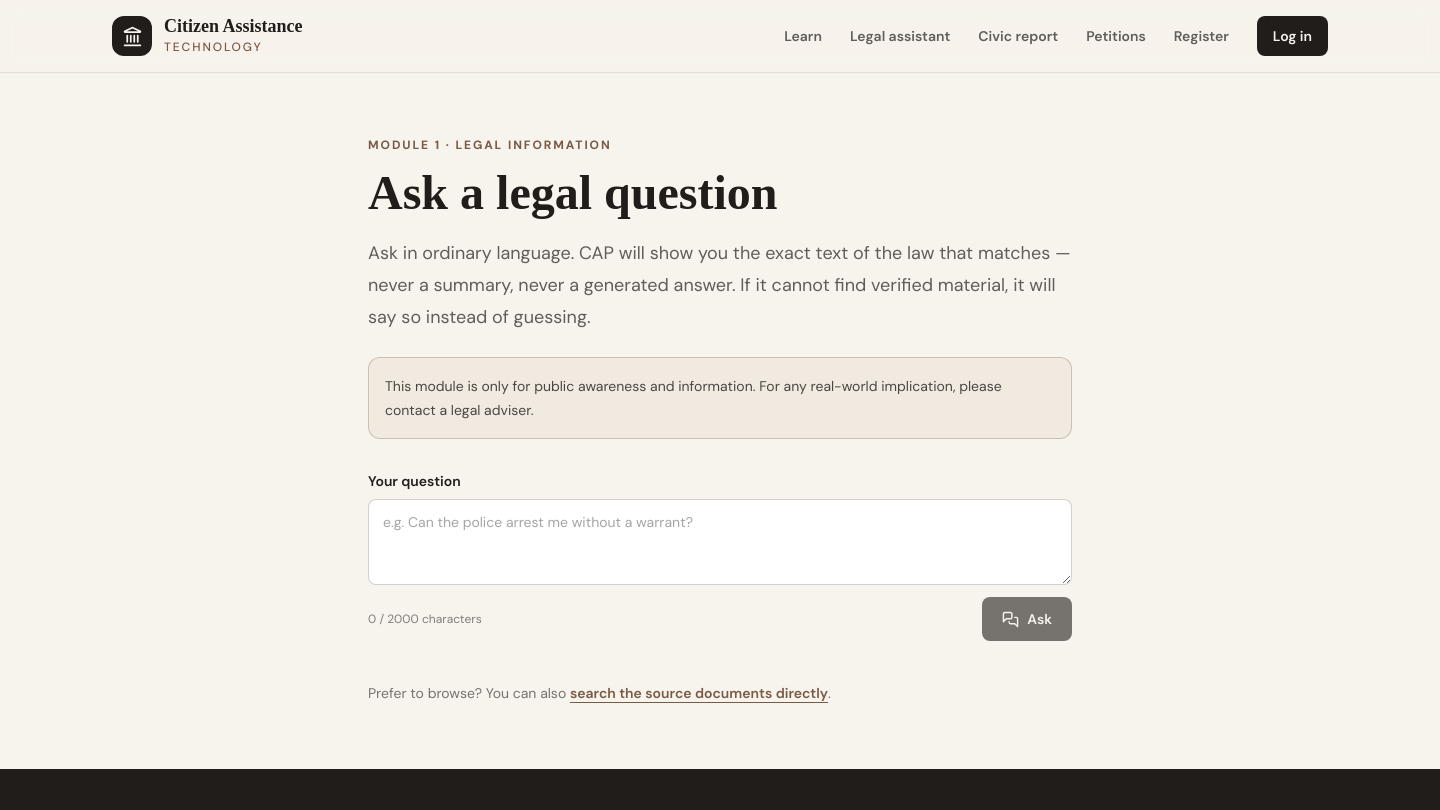
it: LegalAssistantPage › displays an abstention exactly as the backend worded it
The width and height of the screenshot is (1440, 810).
Type "What is the capital of France?" into the text box labelled "Your question" at (720, 542), box [368, 499, 1072, 585]
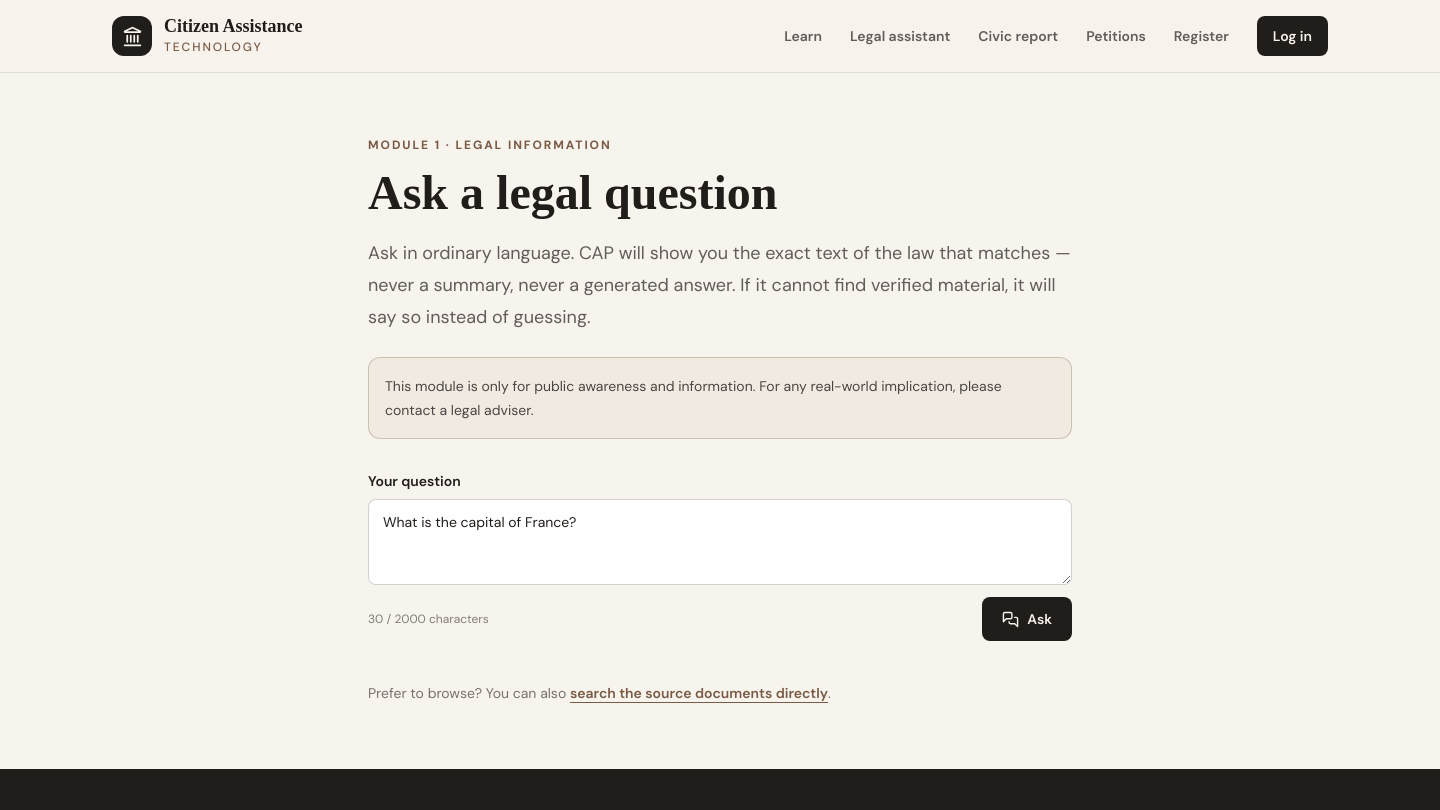
Click the button "Ask" at (1027, 619), box [982, 597, 1072, 641]
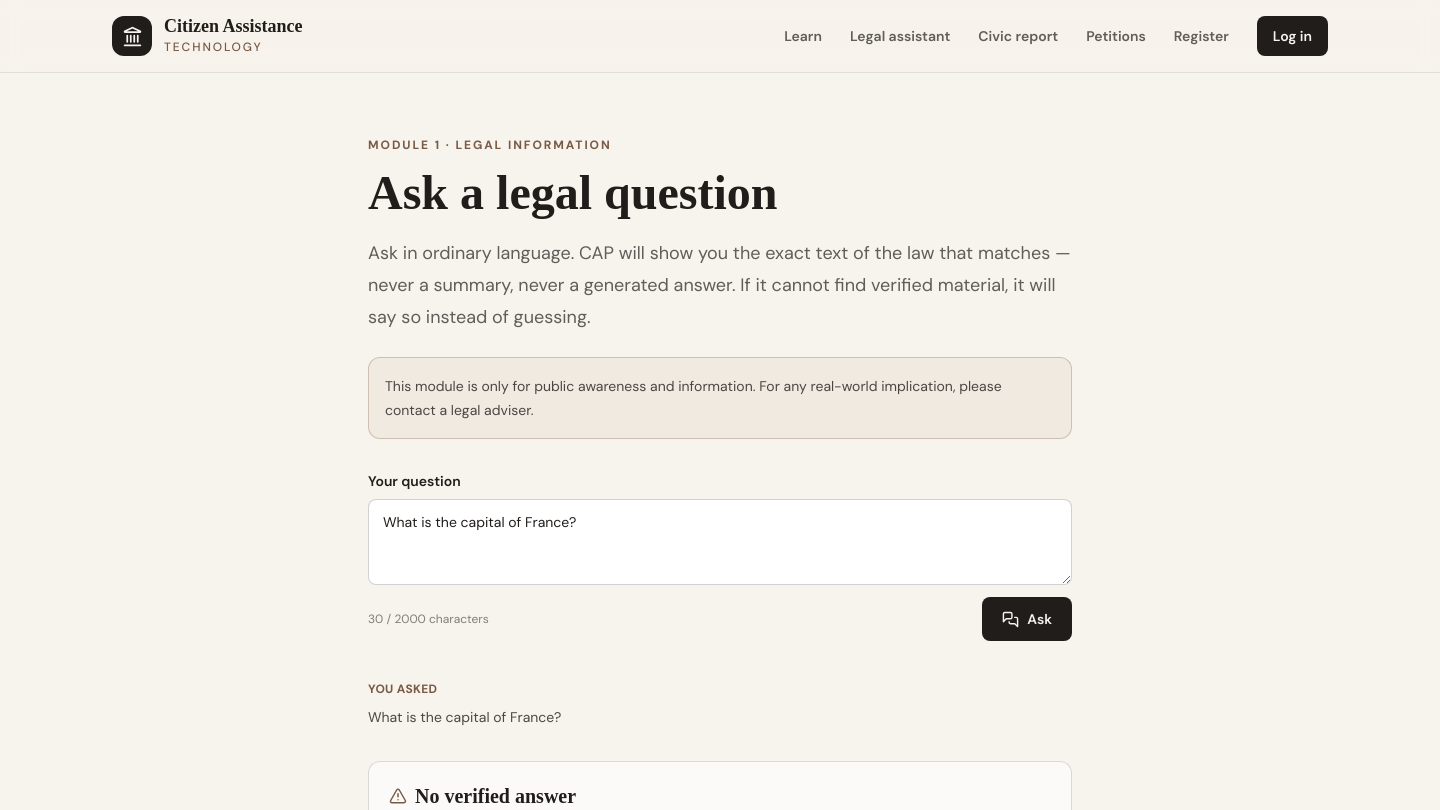
Now the heading "No verified answer" is shown, box [415, 782, 576, 809]
